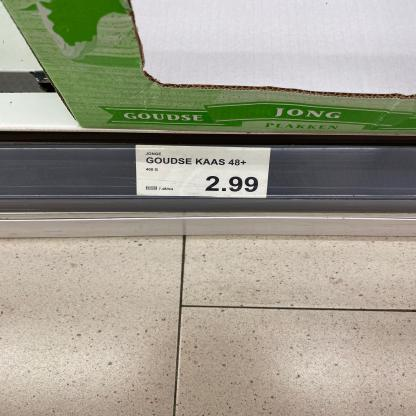prtg: (137, 145, 273, 199)
